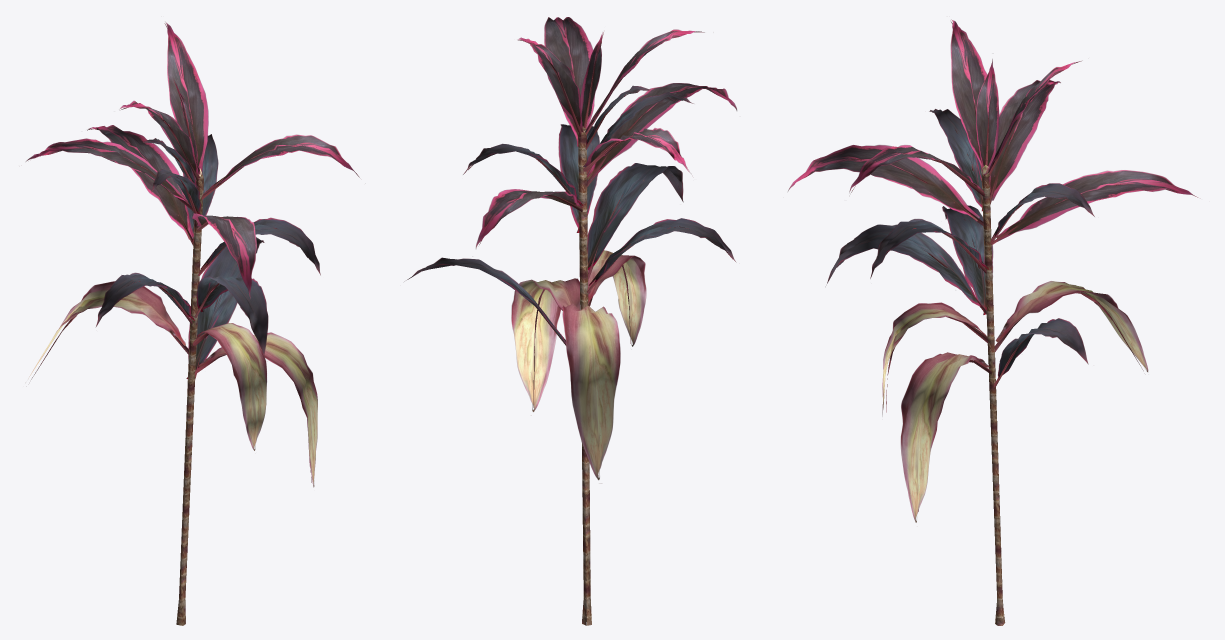
File: Hajuang_red_01_002.glb
3 renders of one model, left to right at view 1: azimuth 30°, elevation 25°; view 2: azimuth 150°, elevation 25°; view 3: azimuth 270°, elevation 25°, orthographic. The views are drawn at different scales.
Parts seen in each view (by area): view 1: Hajuang_red_01.002; view 2: Hajuang_red_01.002; view 3: Hajuang_red_01.002.
Boxes of the visible parts, x1,y1,x2,y2 form: Hajuang_red_01.002: (26,21,359,625); Hajuang_red_01.002: (404,17,736,625); Hajuang_red_01.002: (788,19,1200,625).
Bounding box in the file's own units: 0.4434 × 0.8817 × 0.5938.
Materials: 5 (5 with a texture image).
